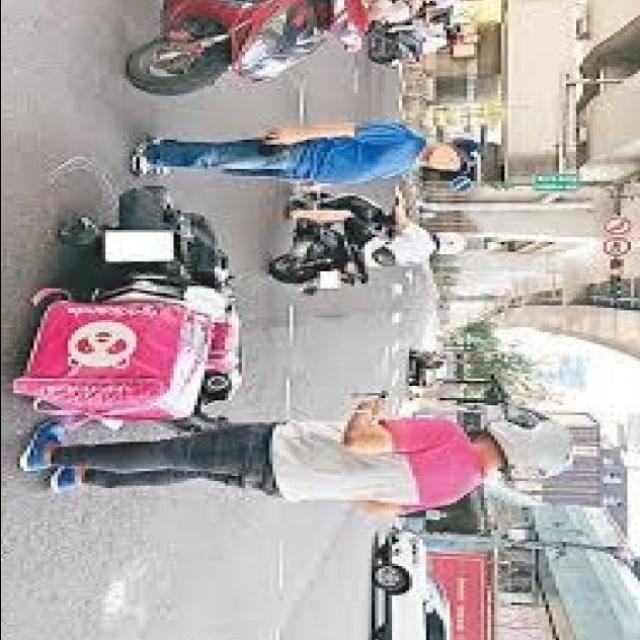accident: (37, 192, 283, 448)
